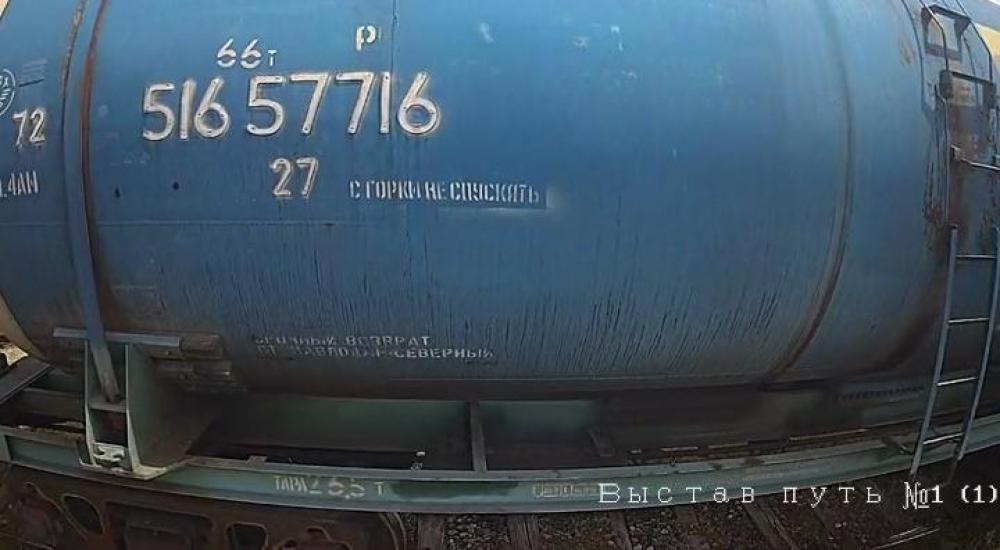Wagon-number: (131, 67, 450, 146)
